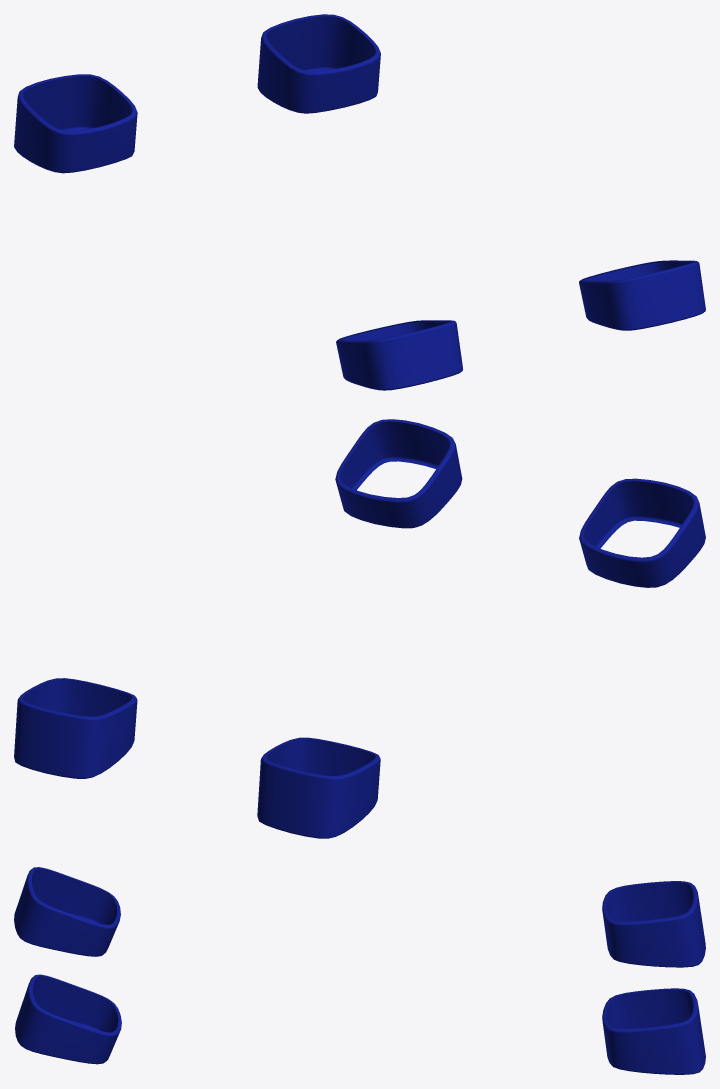
The model's file is SM_horse_braslet_leg.fbx.
3 views of the same model, one above another, from view 1: azimuth 30°, elevation 25°; view 2: azimuth 150°, elevation 25°; view 3: azimuth 270°, elevation 25° (orthographic). The views are drawn at different scales.
Visible parts, largest first — view 1: SM_horse_braslet_leg_LB, SM_horse_braslet_leg_RB, SM_horse_braslet_leg_RF, SM_horse_braslet_leg_LF; view 2: SM_horse_braslet_leg_RB, SM_horse_braslet_leg_LB, SM_horse_braslet_leg_RF, SM_horse_braslet_leg_LF; view 3: SM_horse_braslet_leg_LB, SM_horse_braslet_leg_RB, SM_horse_braslet_leg_LF, SM_horse_braslet_leg_RF.
Part boxes in pixels (box(x1,y1,x2,y2)): SM_horse_braslet_leg_LB: box(14, 74, 137, 173); SM_horse_braslet_leg_RB: box(257, 14, 380, 113); SM_horse_braslet_leg_RF: box(579, 260, 705, 330); SM_horse_braslet_leg_LF: box(336, 320, 462, 390); SM_horse_braslet_leg_RB: box(14, 678, 137, 778); SM_horse_braslet_leg_LB: box(257, 737, 380, 838); SM_horse_braslet_leg_RF: box(335, 419, 462, 528); SM_horse_braslet_leg_LF: box(579, 478, 705, 587); SM_horse_braslet_leg_LB: box(602, 881, 705, 967); SM_horse_braslet_leg_RB: box(602, 988, 705, 1074); SM_horse_braslet_leg_LF: box(14, 867, 120, 956); SM_horse_braslet_leg_RF: box(15, 974, 121, 1064).
Size of the model in its own units: 73.6 by 16.38 by 146.
